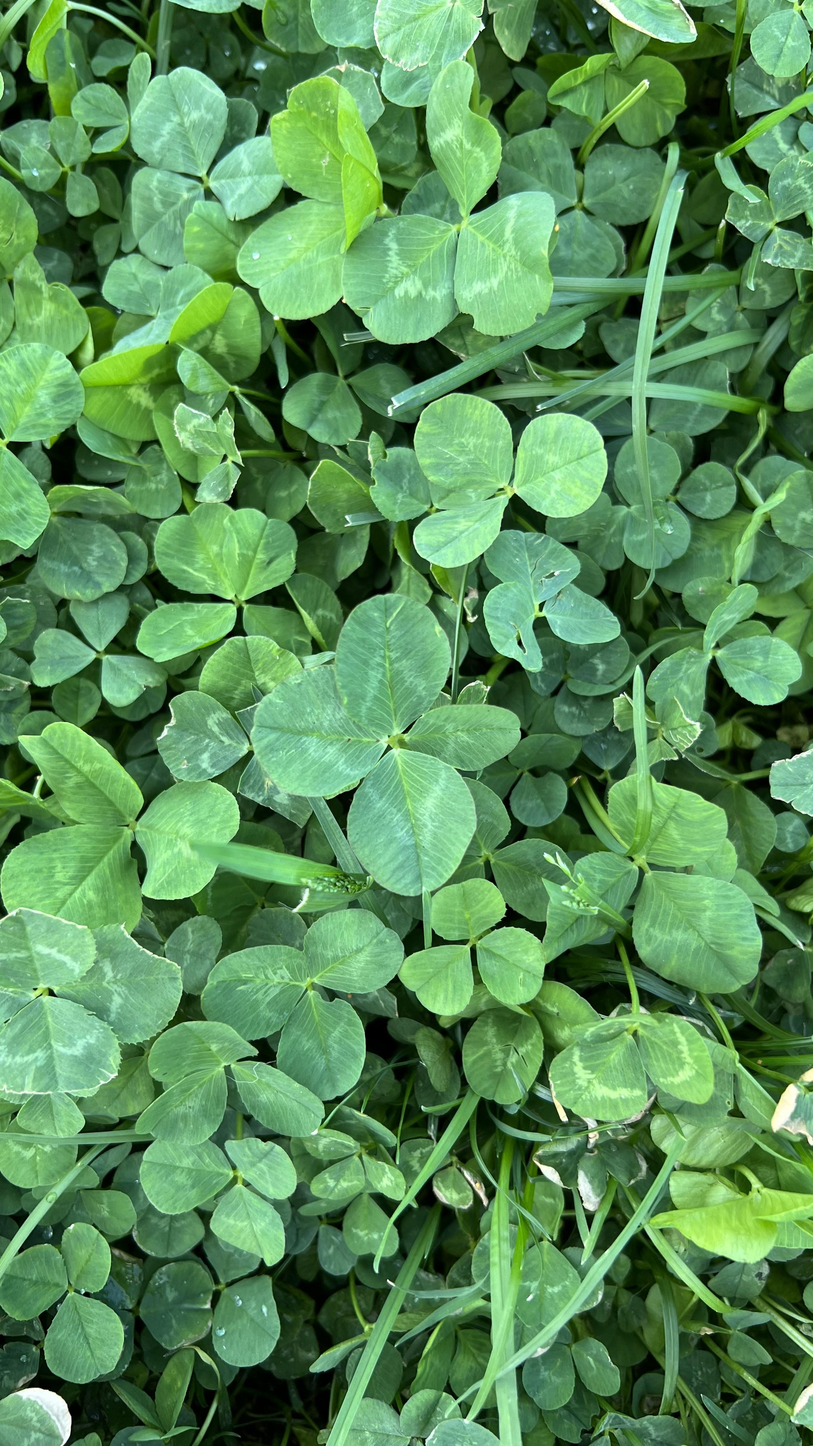4-Leaf-Clovers: (335, 516, 502, 980)
